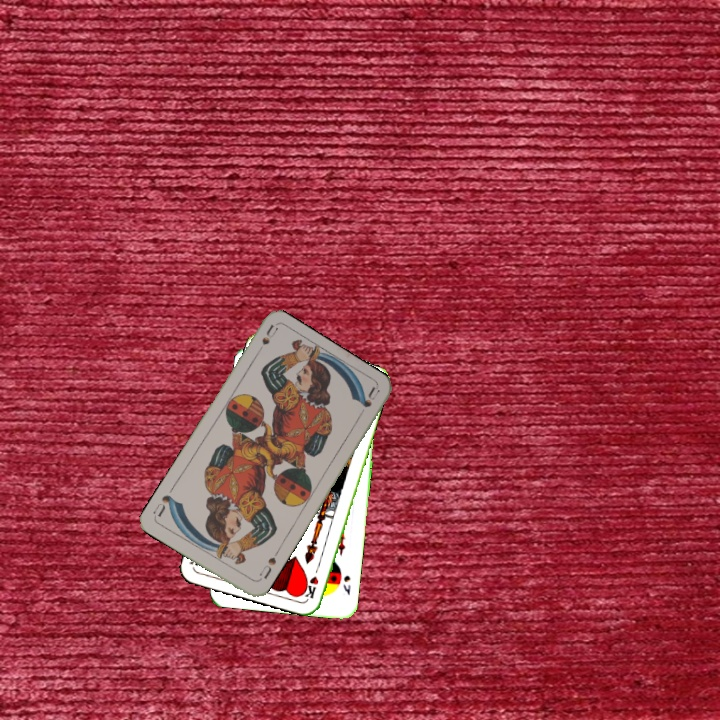HK: (301, 561, 322, 601)
SK: (339, 571, 353, 598)
SU: (251, 321, 280, 359), (255, 553, 279, 582)
